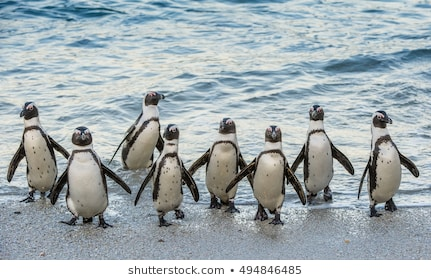penguin: (50, 123, 131, 241), (236, 107, 313, 227), (358, 103, 422, 233), (133, 123, 204, 239), (292, 95, 356, 218), (5, 99, 66, 219), (189, 112, 251, 223), (104, 84, 166, 181)
